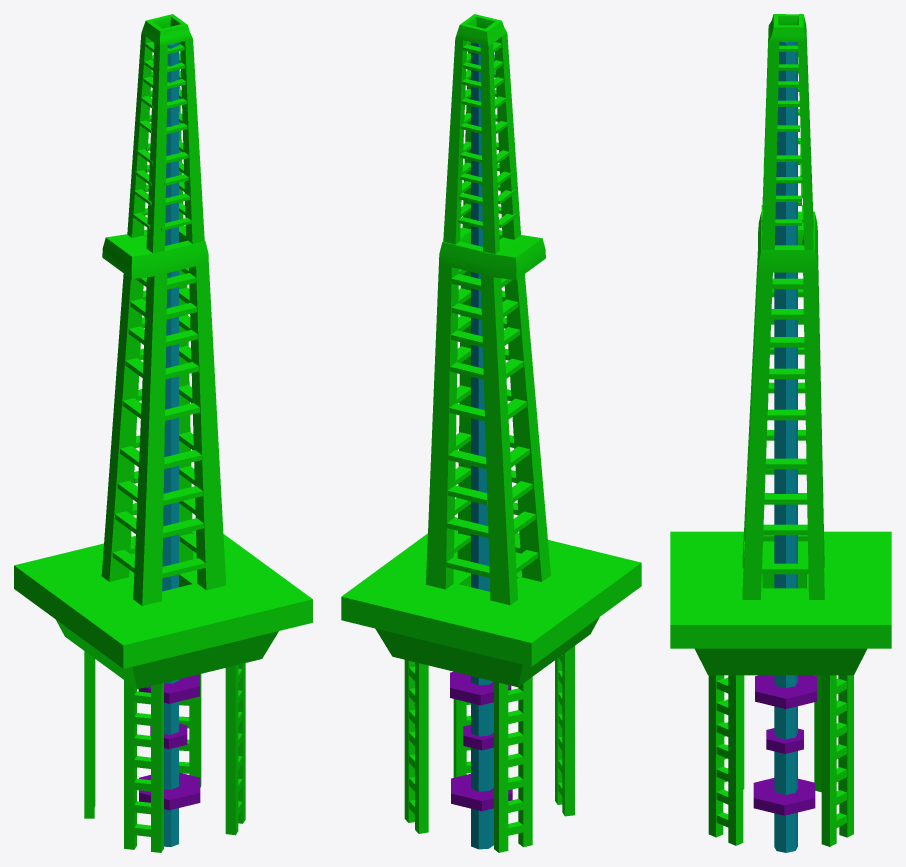
The model's file is OilRig2.fbx.
3 views of the same model, side by side, from view 1: azimuth 30°, elevation 25°; view 2: azimuth 150°, elevation 25°; view 3: azimuth 270°, elevation 25° (orthographic).
Parts seen in each view (by area): view 1: Rig, Drill; view 2: Rig, Drill; view 3: Rig, Drill.
Boxes of the visible parts, <box> form: Rig: <box>14,14,312,852</box>; Drill: <box>138,42,200,846</box>; Rig: <box>341,14,641,852</box>; Drill: <box>450,42,512,849</box>; Rig: <box>670,14,891,846</box>; Drill: <box>753,42,816,852</box>.
Bounding box in the file's own units: 99.56 × 411 × 99.56.
